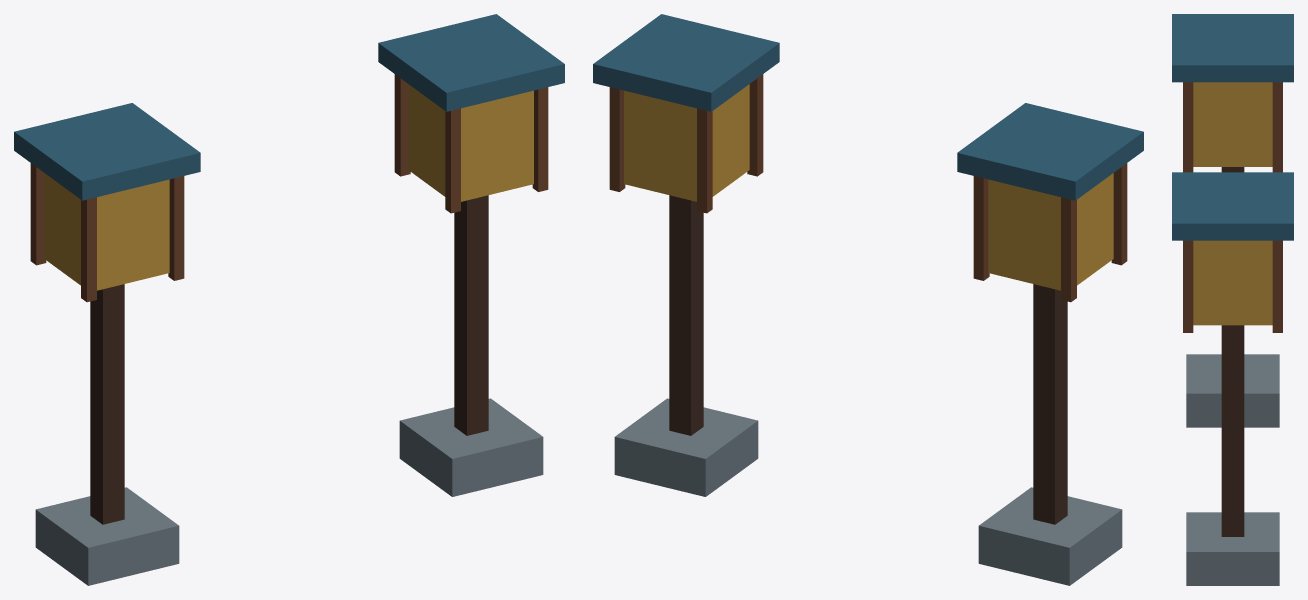
File: Blockland_LanternPair_Standard.glb
3 views of the same model, side by side, from view 1: azimuth 30°, elevation 25°; view 2: azimuth 150°, elevation 25°; view 3: azimuth 270°, elevation 25° (orthographic). The views are drawn at different scales.
Parts seen in each view (by area): view 1: Blockland_LanternPair_Standard; view 2: Blockland_LanternPair_Standard; view 3: Blockland_LanternPair_Standard.
Boxes of the visible parts, x1,y1,x2,y2 form: Blockland_LanternPair_Standard: (14,14,564,585); Blockland_LanternPair_Standard: (593,14,1143,585); Blockland_LanternPair_Standard: (1172,14,1293,585).
Bounding box in the file's own units: 2.65 × 2.17 × 0.65.
